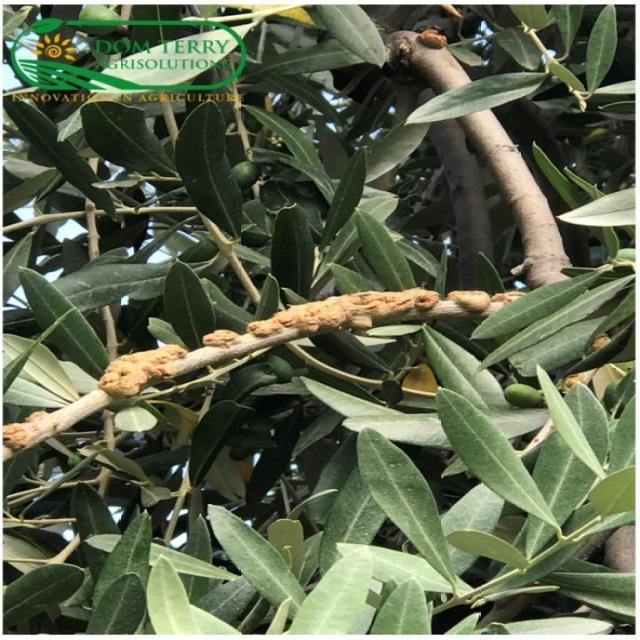Tuberculosis: (246, 288, 440, 337), (98, 344, 178, 397), (4, 411, 49, 452), (448, 291, 490, 314), (203, 328, 240, 348)
